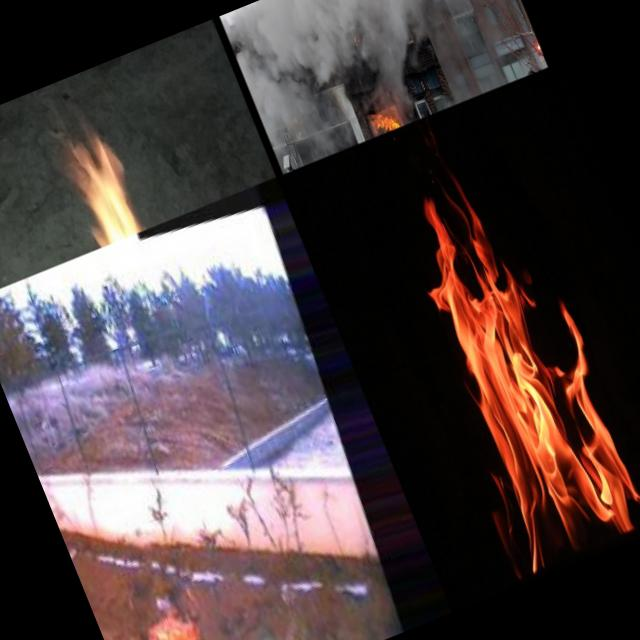fire: (361, 144, 640, 587), (7, 107, 152, 266), (114, 595, 218, 640), (366, 96, 404, 135)
smoke: (317, 0, 539, 132), (220, 0, 391, 169)
